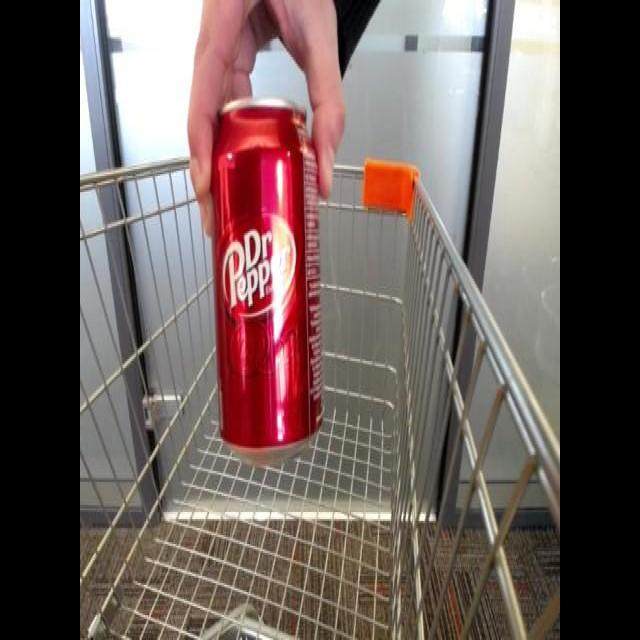Dr Pepper: (194, 86, 327, 472)
